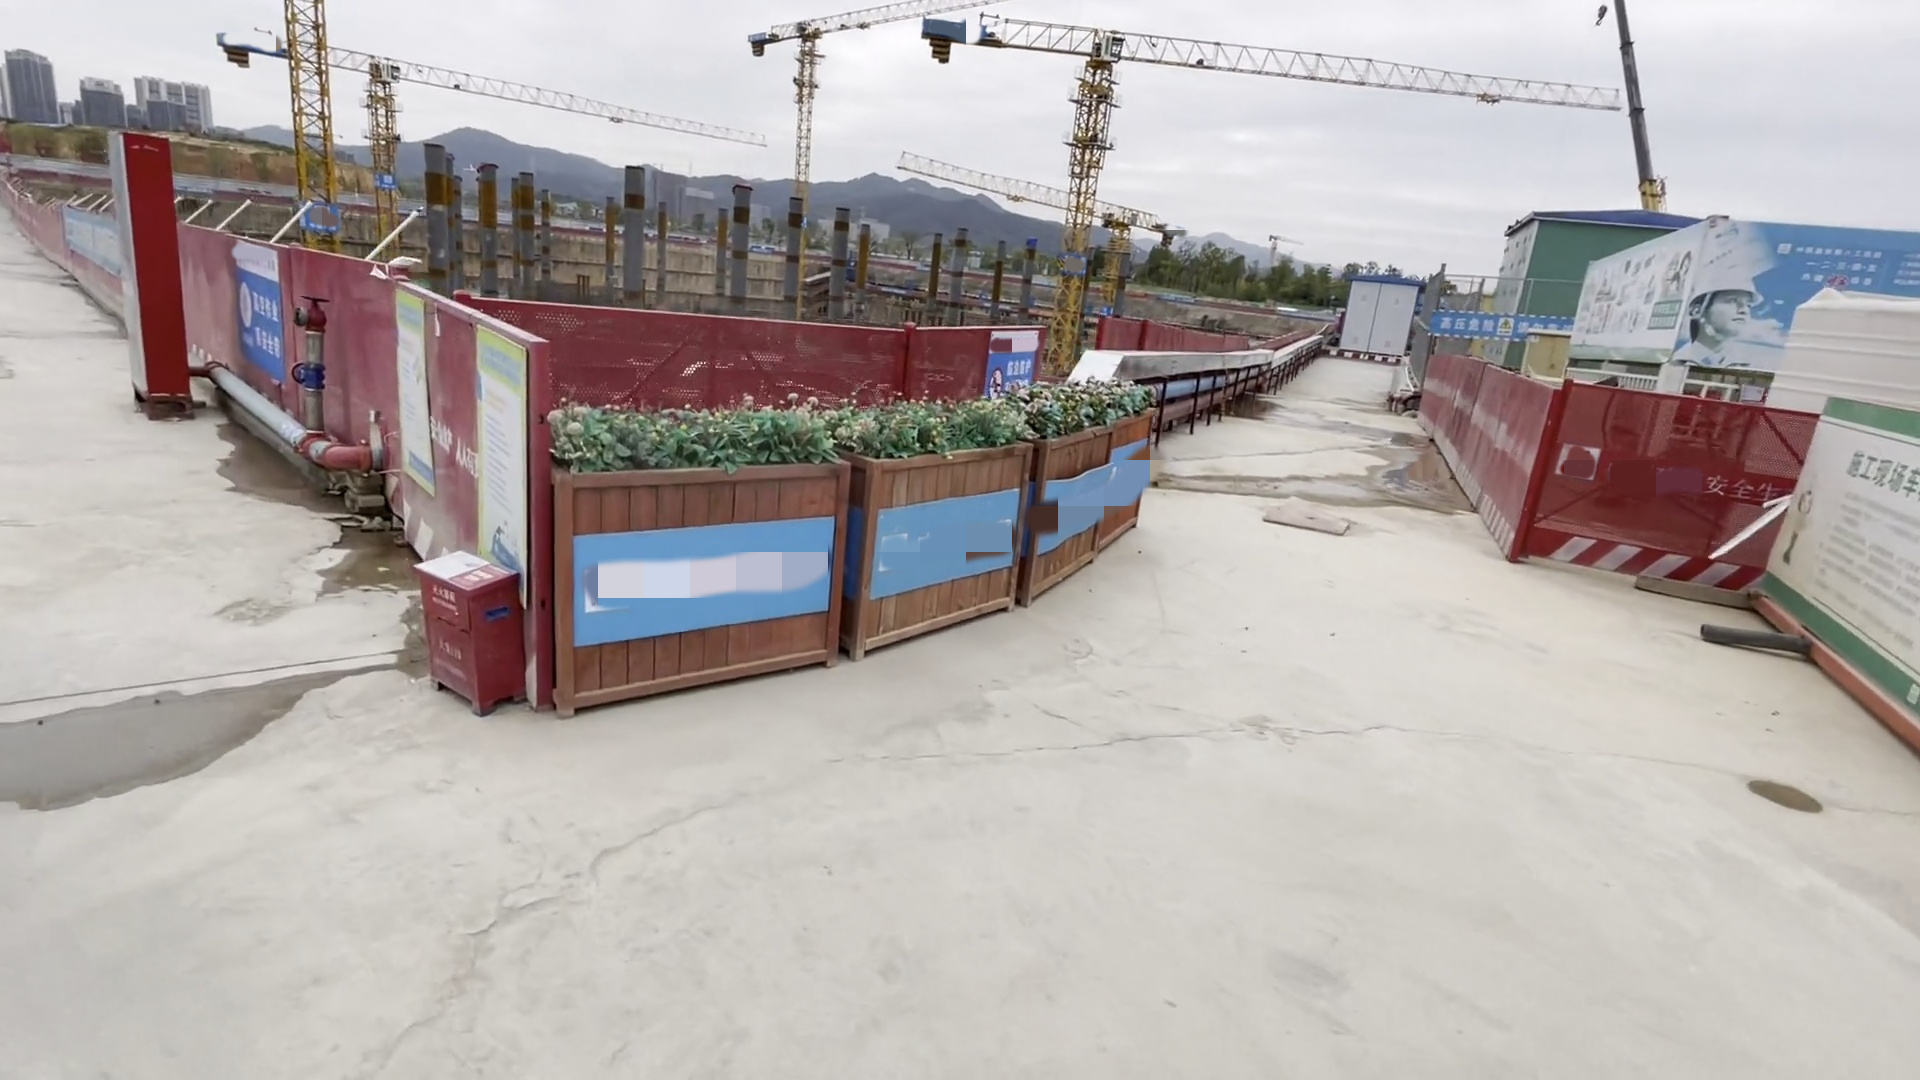fence: (464, 278, 1000, 413), (1543, 371, 1795, 603), (1443, 360, 1563, 560)
hook: (1586, 4, 1611, 28)
slogan: (1433, 316, 1506, 345)
